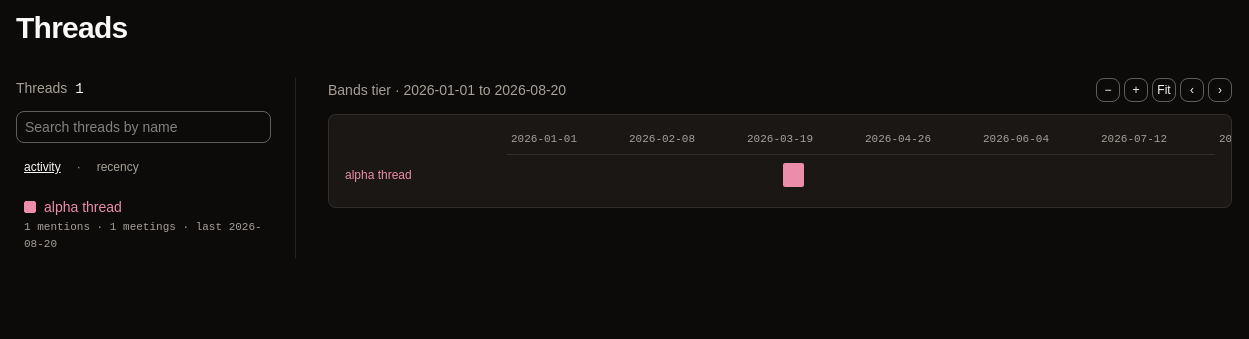
reviewed screen orchestration › retries a refused tier request instead of only hiding the refusal
Click the cell named "alpha thread, 2026-04-01" at (794, 175), box [782,163,806,187]
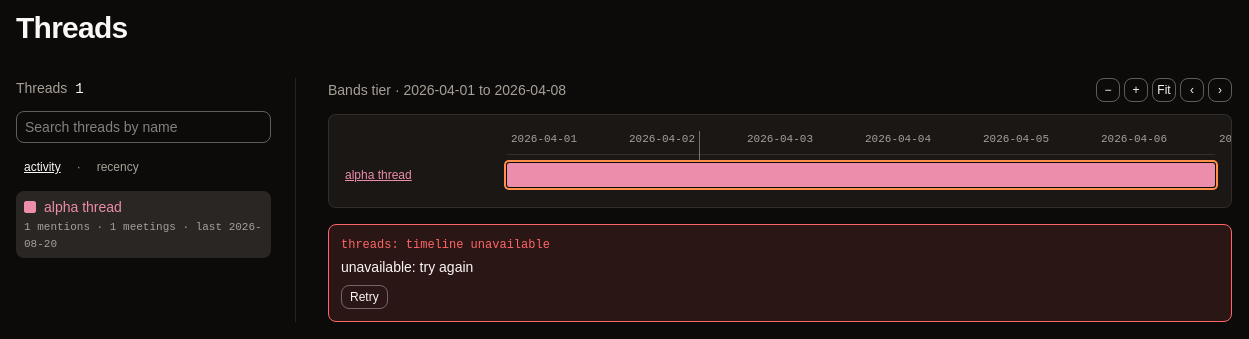
Click the button "Retry" at (364, 297), box [341,285,388,309]
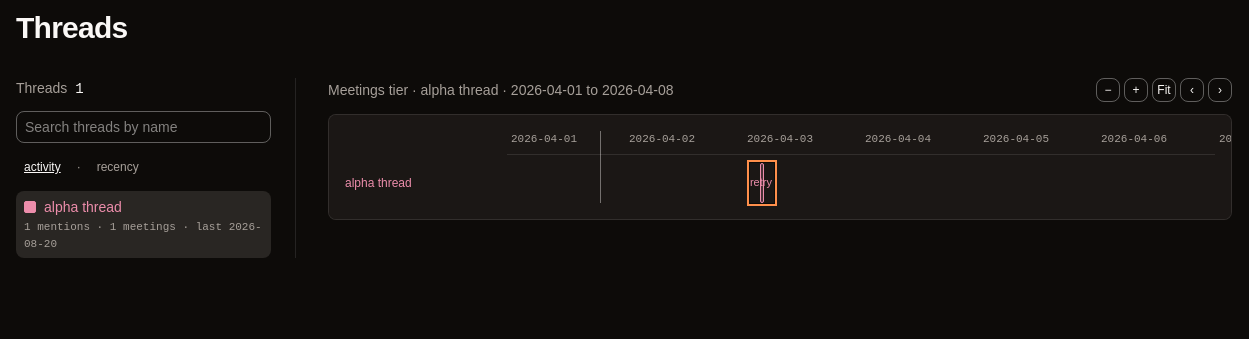
Check: the cell "retry succeeded· 1 mentions" is shown, box [750,163,774,203]
